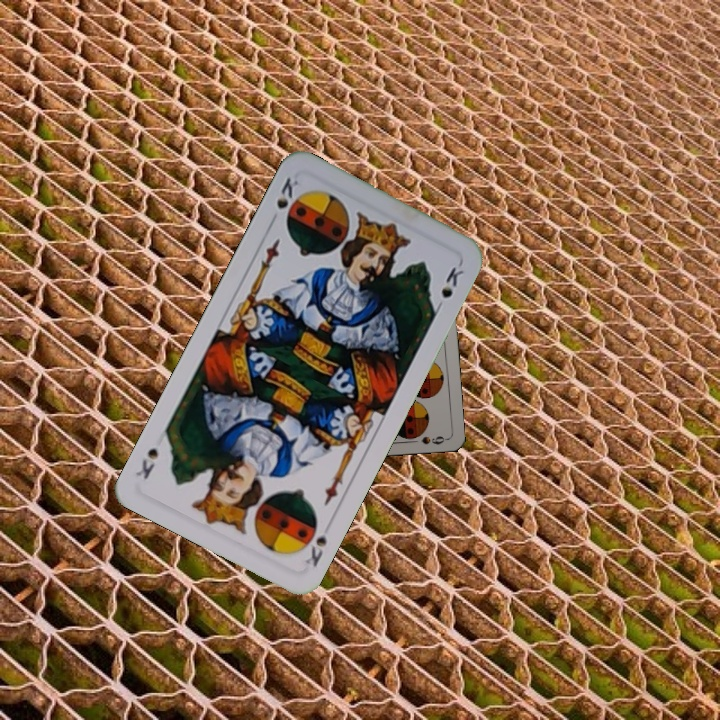SK: (301, 517, 335, 570), (272, 173, 304, 212)
